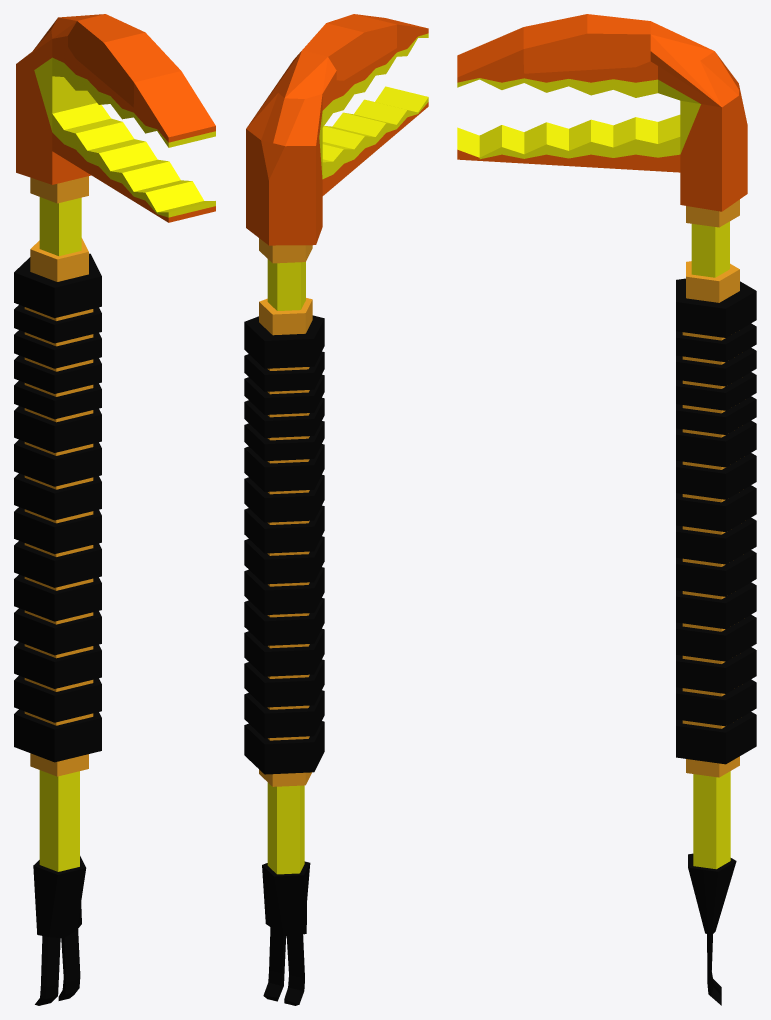
File: MC_Melee.glb
The picture shows the model from 3 angles, left to right: view 1: azimuth 30°, elevation 25°; view 2: azimuth 150°, elevation 25°; view 3: azimuth 270°, elevation 25°; orthographic projection. The views are drawn at different scales.
Parts seen in each view (by area): view 1: Cylinder; view 2: Cylinder; view 3: Cylinder.
Part boxes in pixels (left/top/right/bottom): Cylinder: left=14, top=14, right=215, bottom=1005; Cylinder: left=244, top=14, right=428, bottom=1005; Cylinder: left=457, top=14, right=756, bottom=1005.
Size of the model in its own units: 0.3568 by 4.52 by 1.26.
